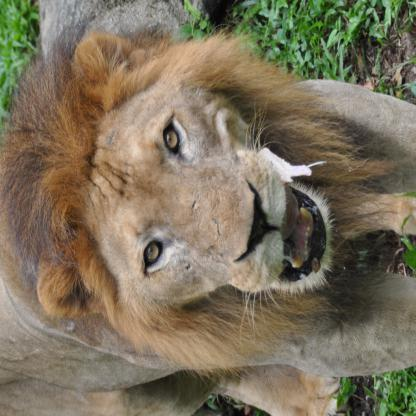lion: (0, 12, 328, 360)
